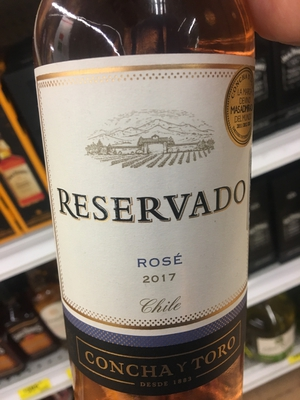reservado rose: (26, 14, 263, 400)
